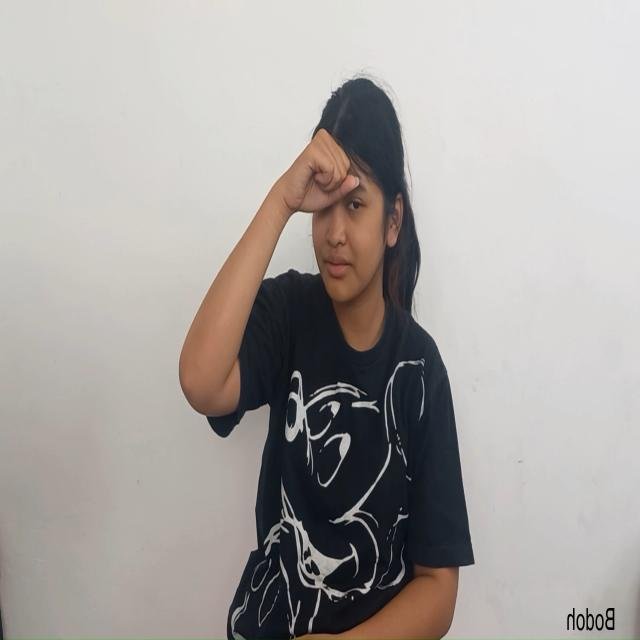Bodoh -BISINDO-: (177, 72, 405, 356)
